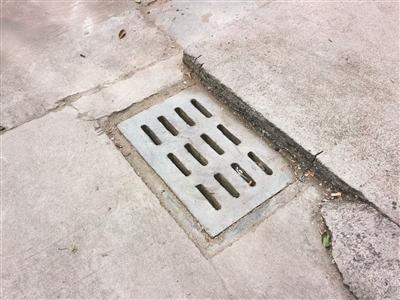wellcover: (96, 61, 307, 241)
